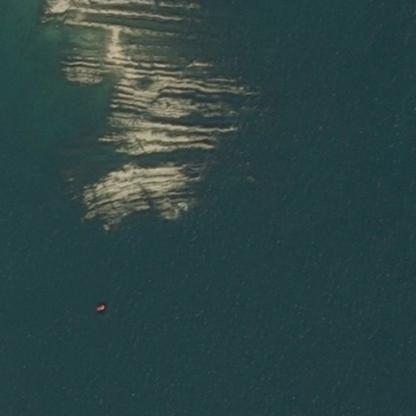ship: (90, 298, 111, 316)
